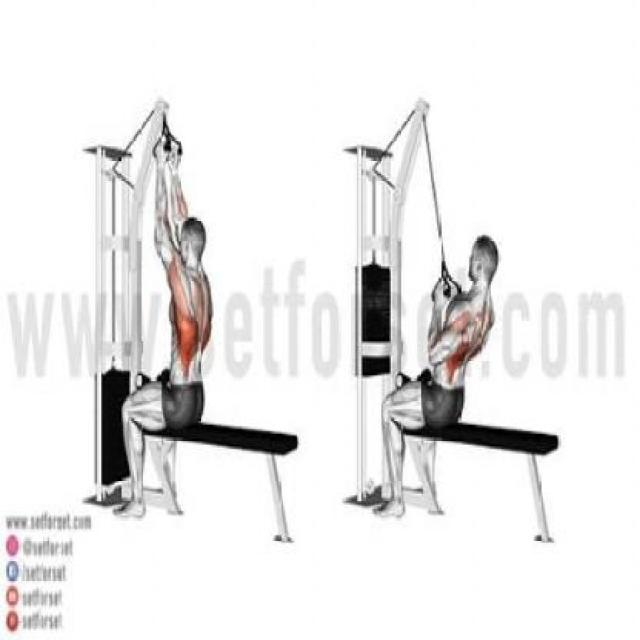Lat Pull Down: (69, 92, 323, 566), (336, 94, 590, 568)
